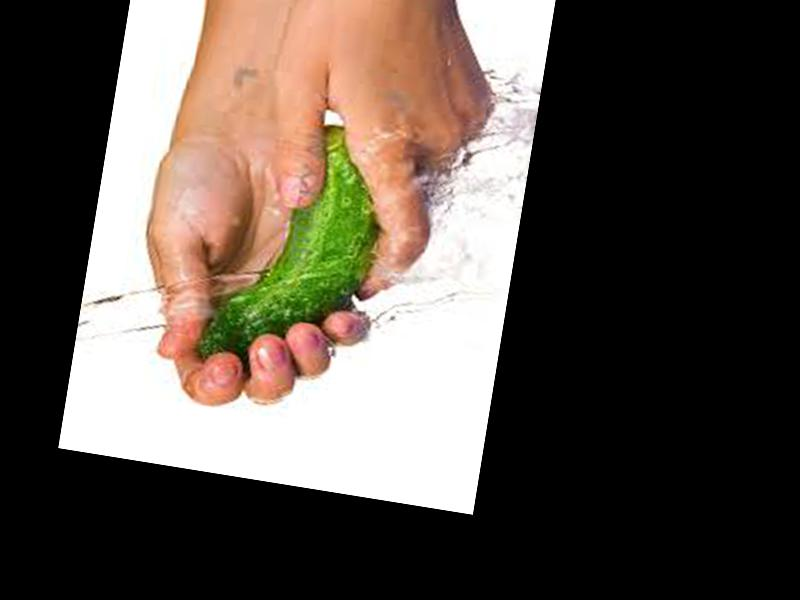Cucumber: (196, 107, 397, 384)
